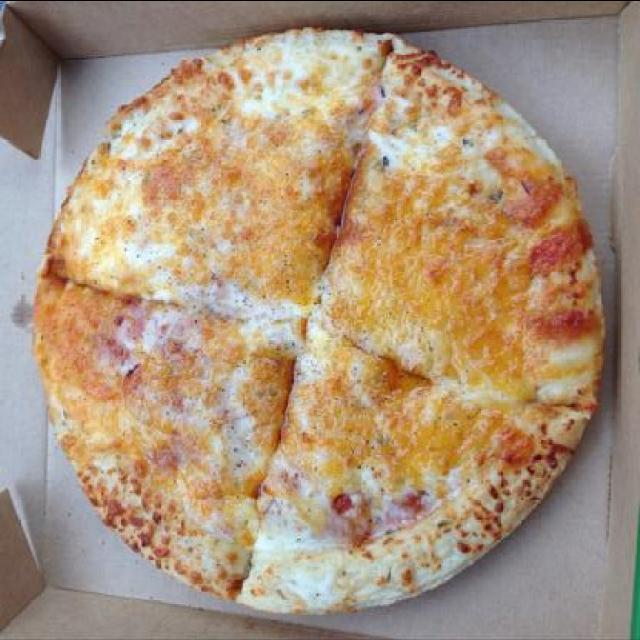Pizza: (37, 1, 612, 622)
